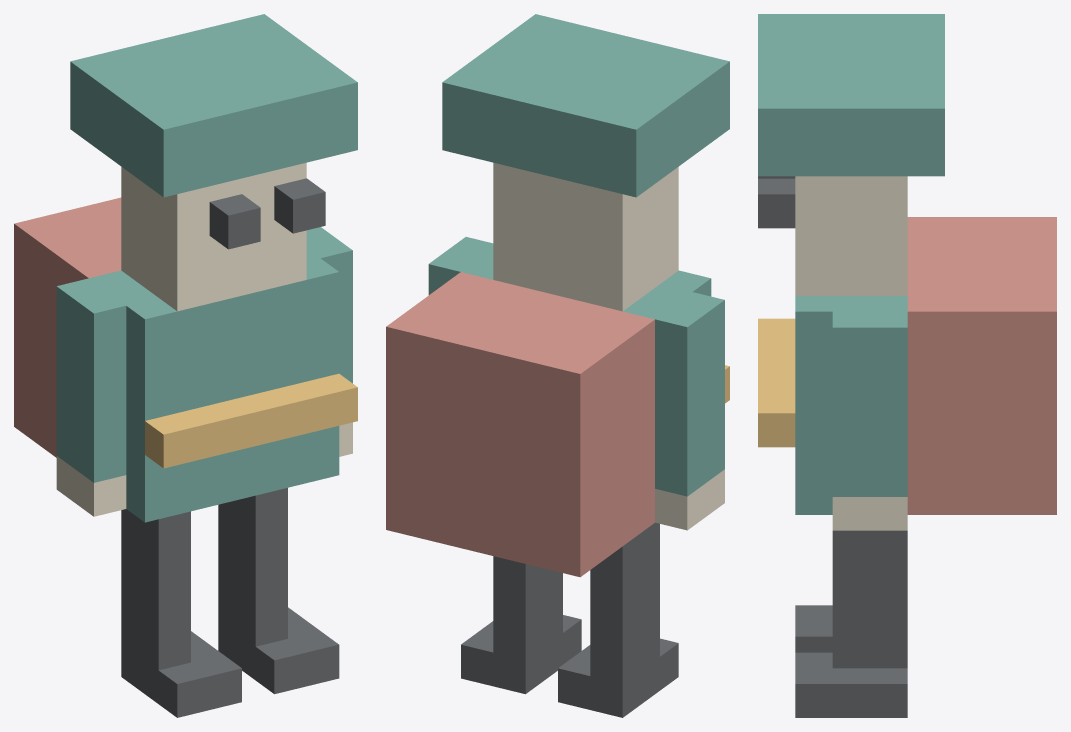
File: pocket-borough-bicycle-courier__283.glb
The picture shows the model from 3 angles, left to right: view 1: azimuth 30°, elevation 25°; view 2: azimuth 150°, elevation 25°; view 3: azimuth 270°, elevation 25°; orthographic projection.
Visible parts, largest first — view 1: pocket-borough-bicycle-courier; view 2: pocket-borough-bicycle-courier; view 3: pocket-borough-bicycle-courier.
Boxes of the visible parts, x1,y1,x2,y2 form: pocket-borough-bicycle-courier: [14, 14, 357, 717]; pocket-borough-bicycle-courier: [386, 14, 729, 717]; pocket-borough-bicycle-courier: [758, 14, 1056, 717].
Size of the model in its own units: 1 by 2.25 by 1.
